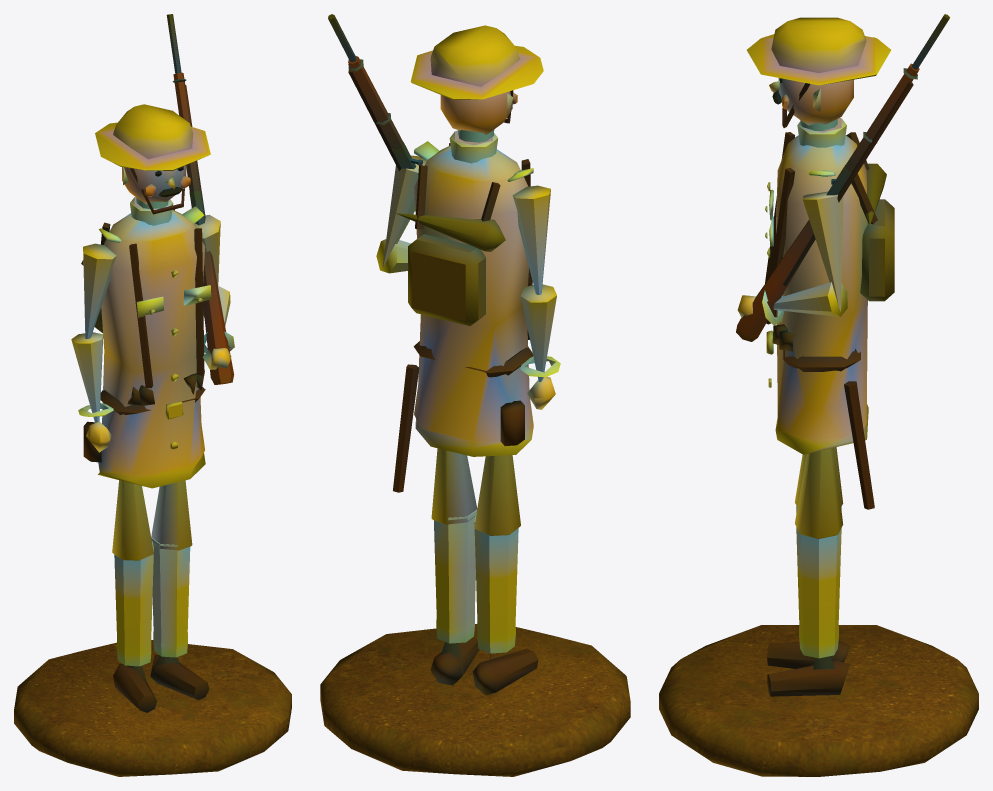
File: infantry_lo.glb
The picture shows the model from 3 angles, left to right: view 1: azimuth 30°, elevation 25°; view 2: azimuth 150°, elevation 25°; view 3: azimuth 270°, elevation 25°; orthographic projection. The views are drawn at different scales.
Visible parts, largest first — view 1: infantry; view 2: infantry; view 3: infantry.
Part boxes in pixels (x1,y1,x2,y2): infantry: (14,14,291,776); infantry: (320,14,630,776); infantry: (659,14,978,776).
Size of the model in its own units: 0.1004 by 0.2575 by 0.1004.
11 materials, 1 textured.
